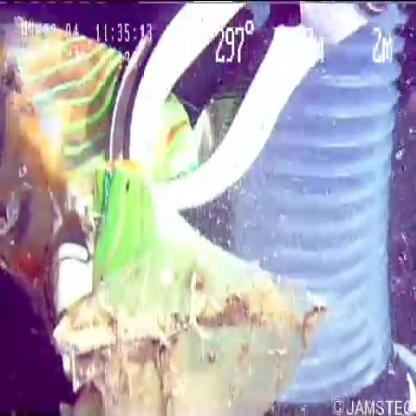Rác: (1, 11, 346, 415)
